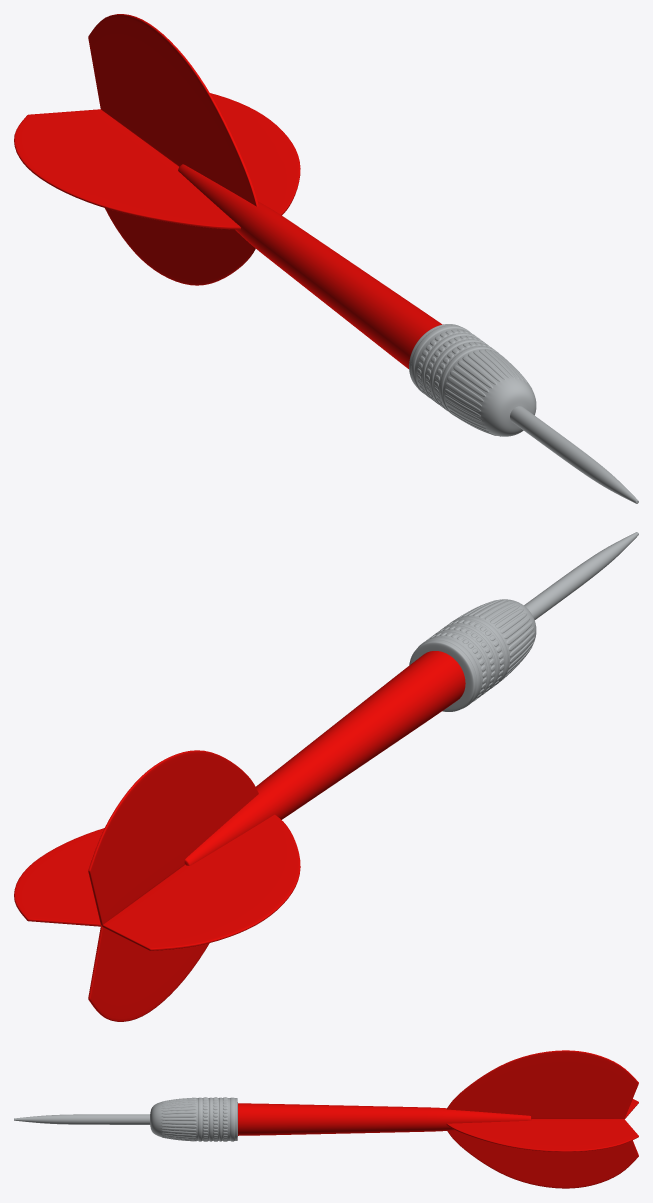
Rendered from dardoRojo.fbx.
The picture shows the model from 3 angles, top to bottom: view 1: azimuth 30°, elevation 25°; view 2: azimuth 150°, elevation 25°; view 3: azimuth 270°, elevation 25°; orthographic projection. The views are drawn at different scales.
Visible parts, largest first — view 1: dart; view 2: dart; view 3: dart.
Boxes of the visible parts, x1,y1,x2,y2 form: dart: (14,14,638,503); dart: (14,532,638,1021); dart: (14,1050,638,1188).
Bounding box in the file's own units: 3.59 × 3.59 × 14.74.
